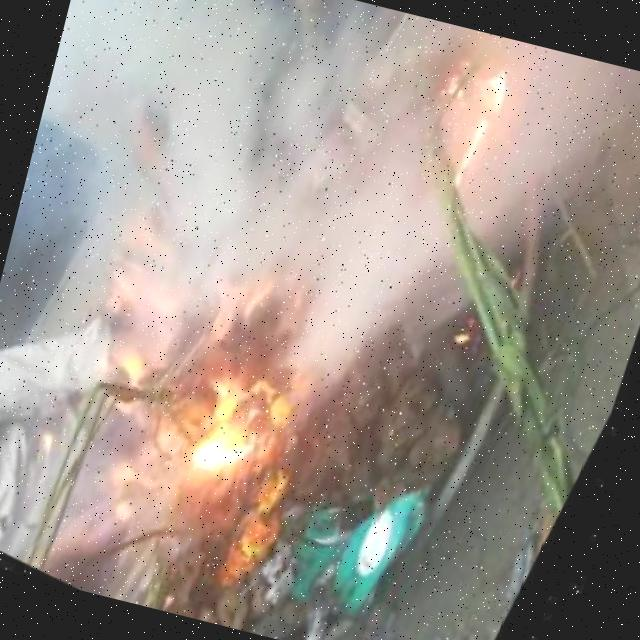fire: (416, 33, 535, 218), (181, 354, 307, 509), (217, 460, 312, 607)
